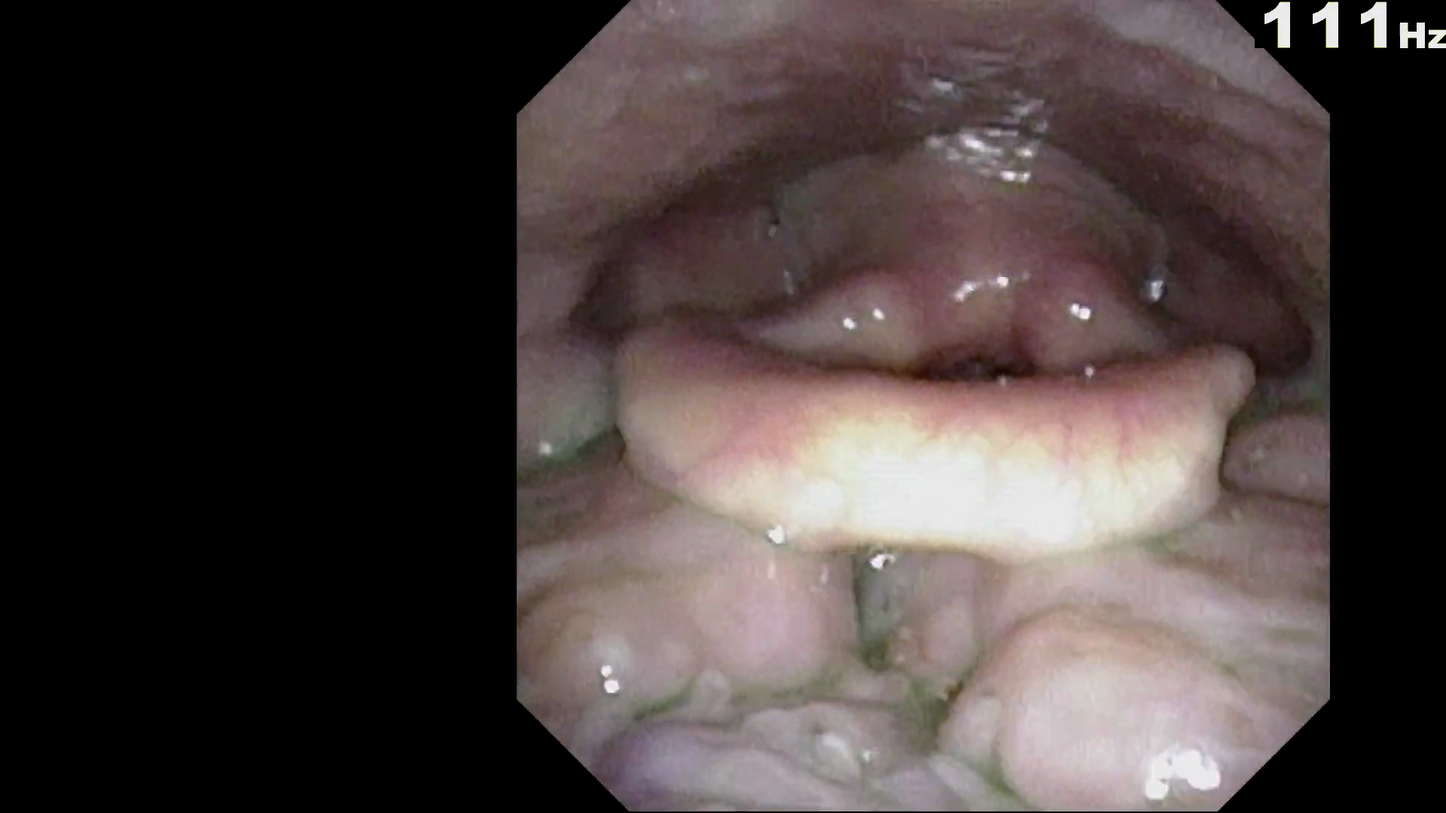epiglottis: (590, 249, 1244, 488)
trachea: (899, 318, 1036, 468)
